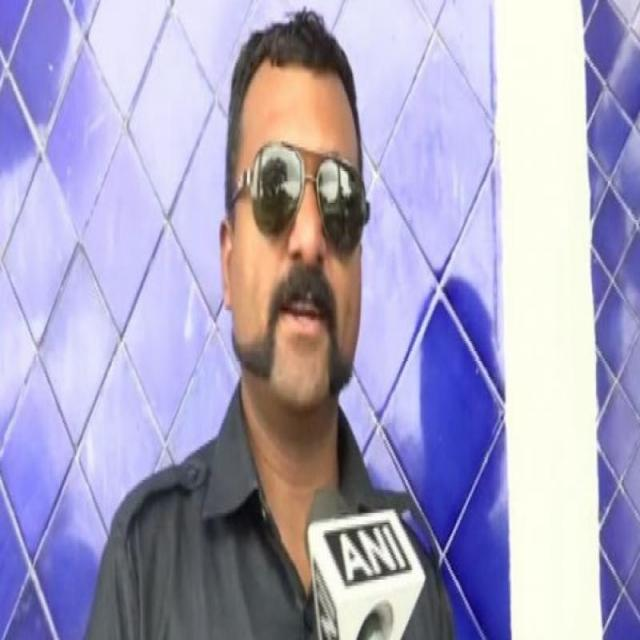beard: (233, 263, 353, 398)
hair: (225, 7, 363, 211)
